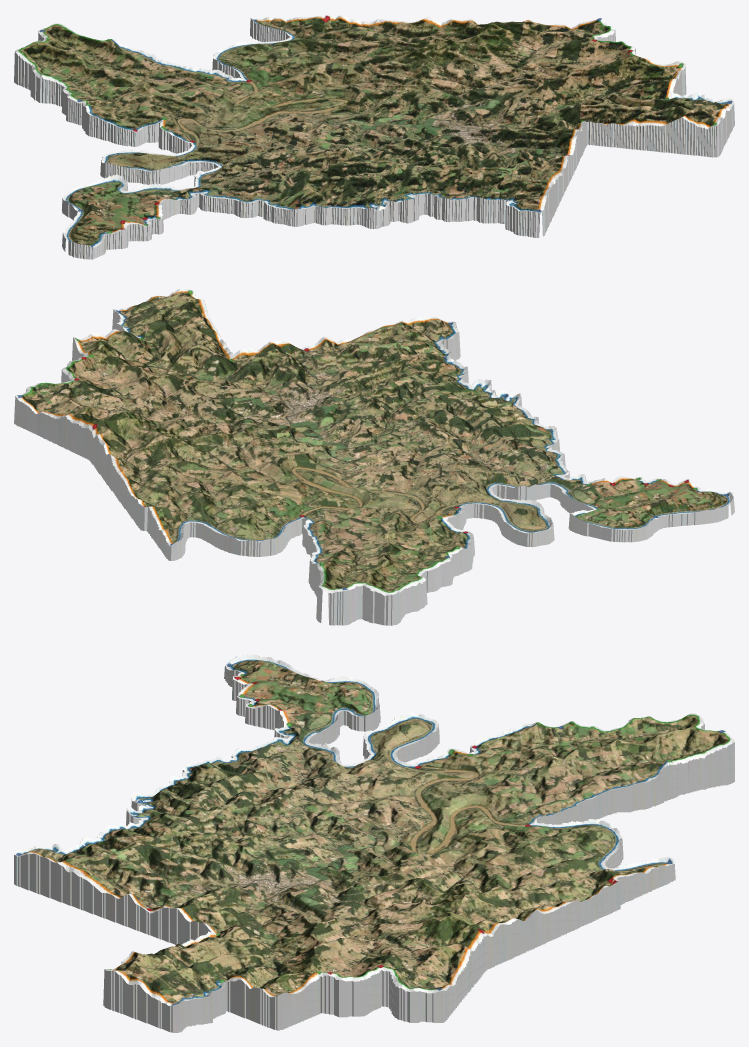
The picture shows the model from 3 angles, top to bottom: view 1: azimuth 30°, elevation 25°; view 2: azimuth 150°, elevation 25°; view 3: azimuth 270°, elevation 25°; orthographic projection. The views are drawn at different scales.
Bounding box in the file's own units: 0.9999 × 0.0569 × 0.8409.
Materials: 1 (1 with a texture image).
